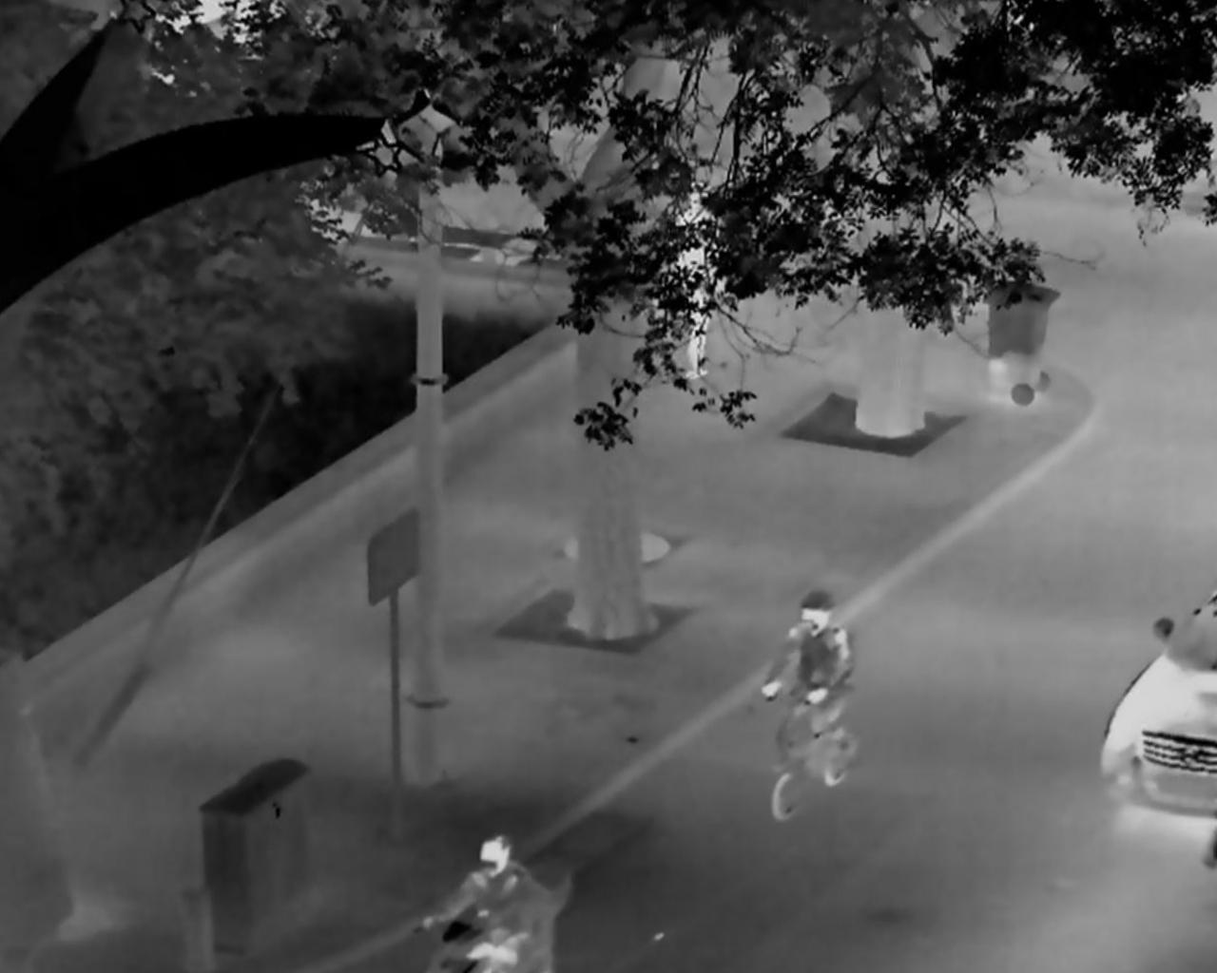person: (416, 833, 537, 973), (763, 588, 851, 768), (664, 194, 724, 381)
